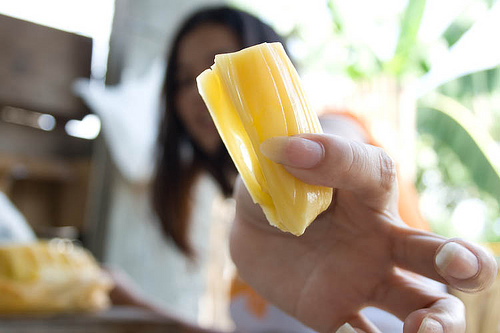jackfruit: (194, 41, 334, 238)
